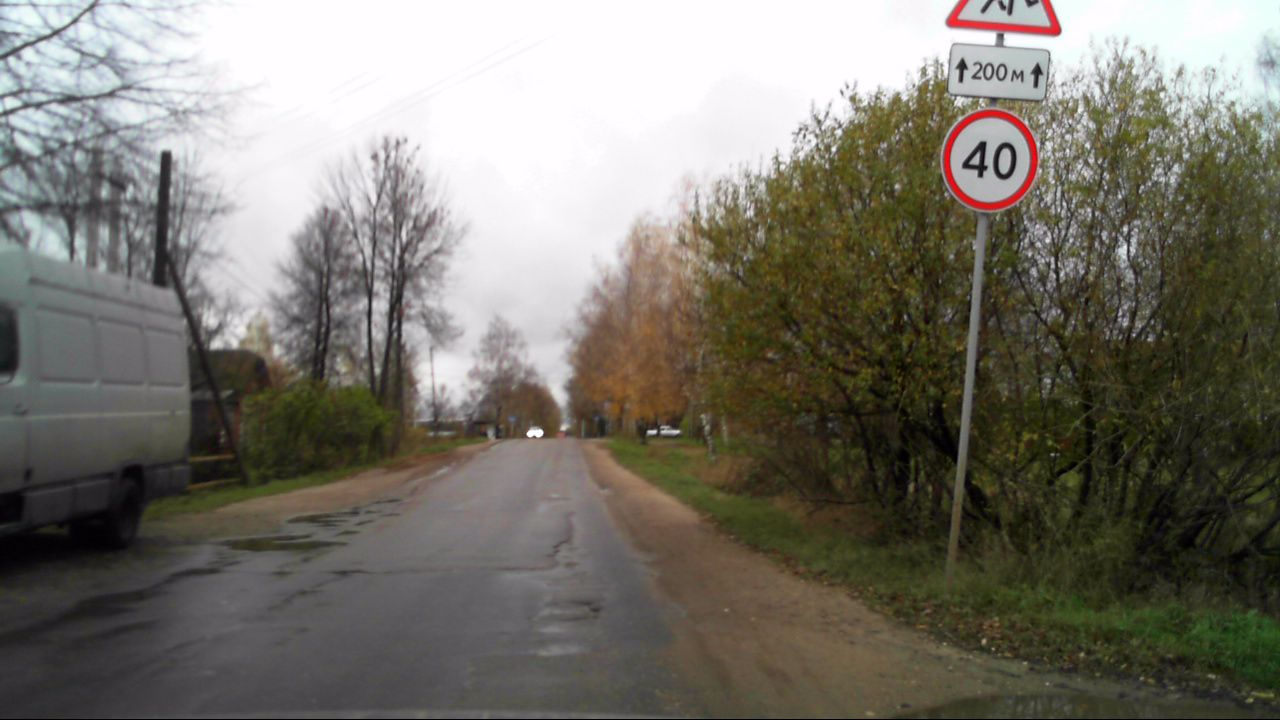speed_warning_40: (939, 109, 1038, 211)
